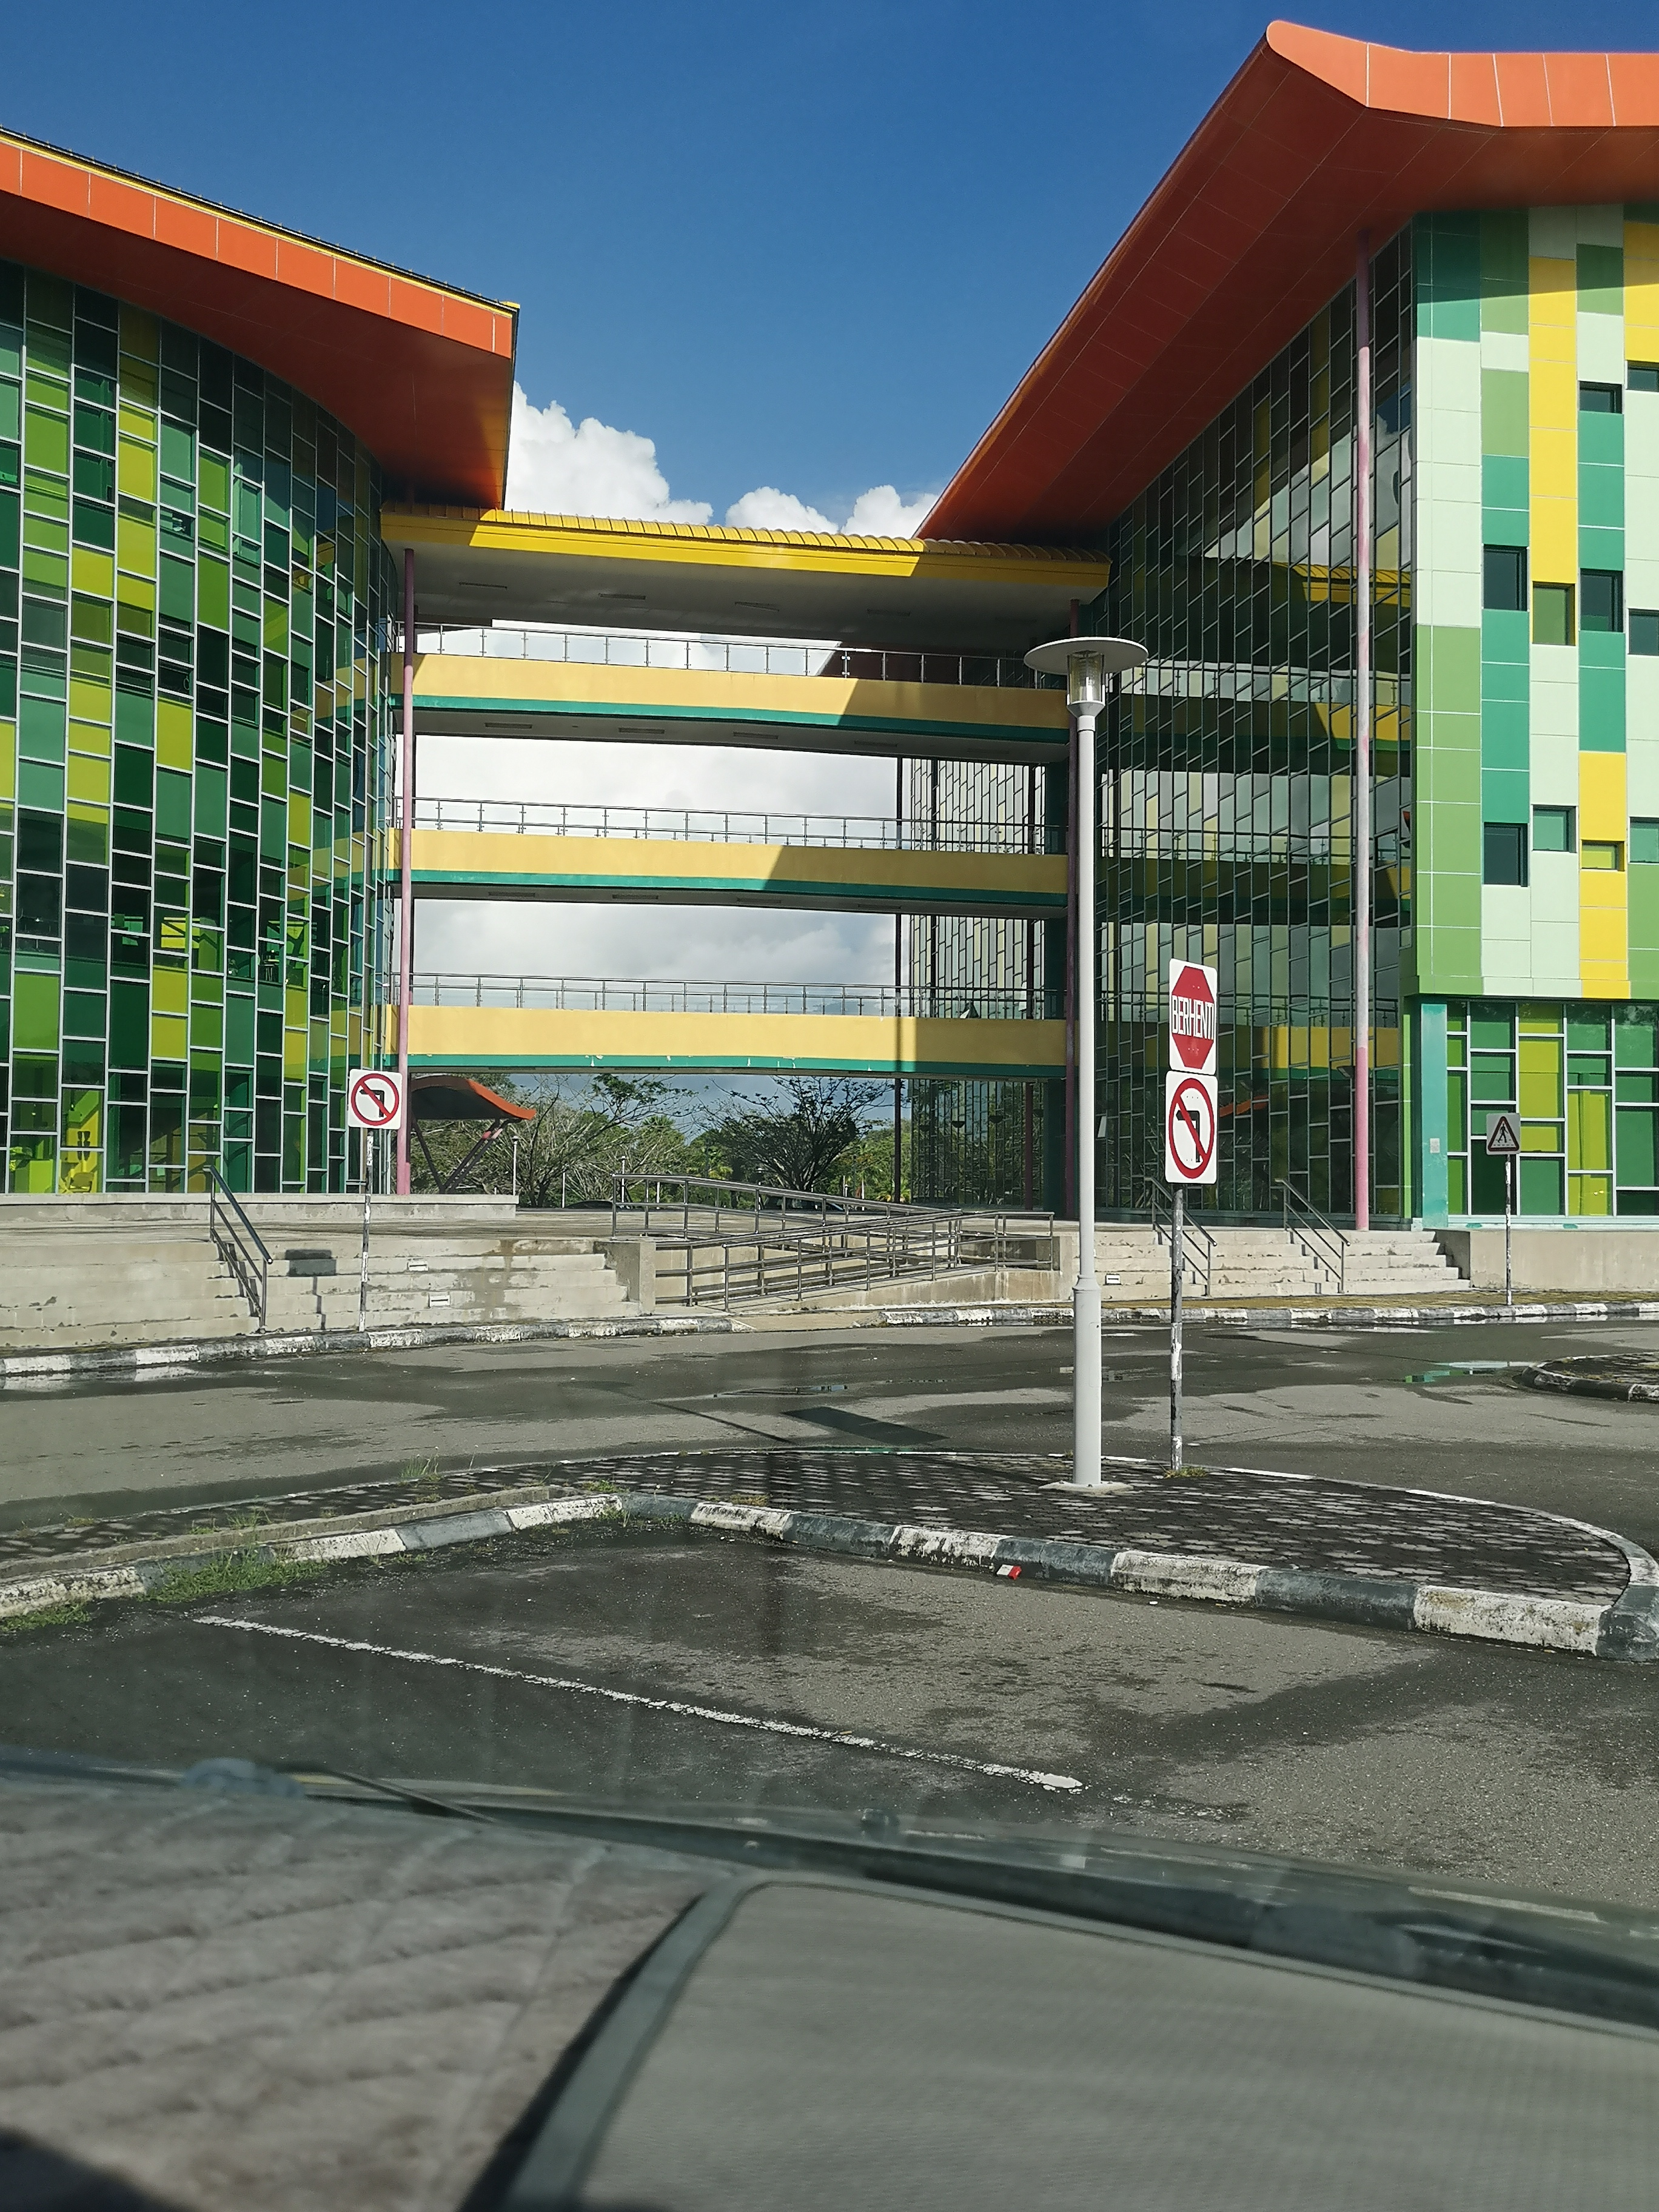no left turn: (1168, 1064, 1218, 1204), (338, 1062, 404, 1139)
pedestrian crossing: (1485, 1113, 1525, 1157)
stop: (1166, 946, 1227, 1068)
